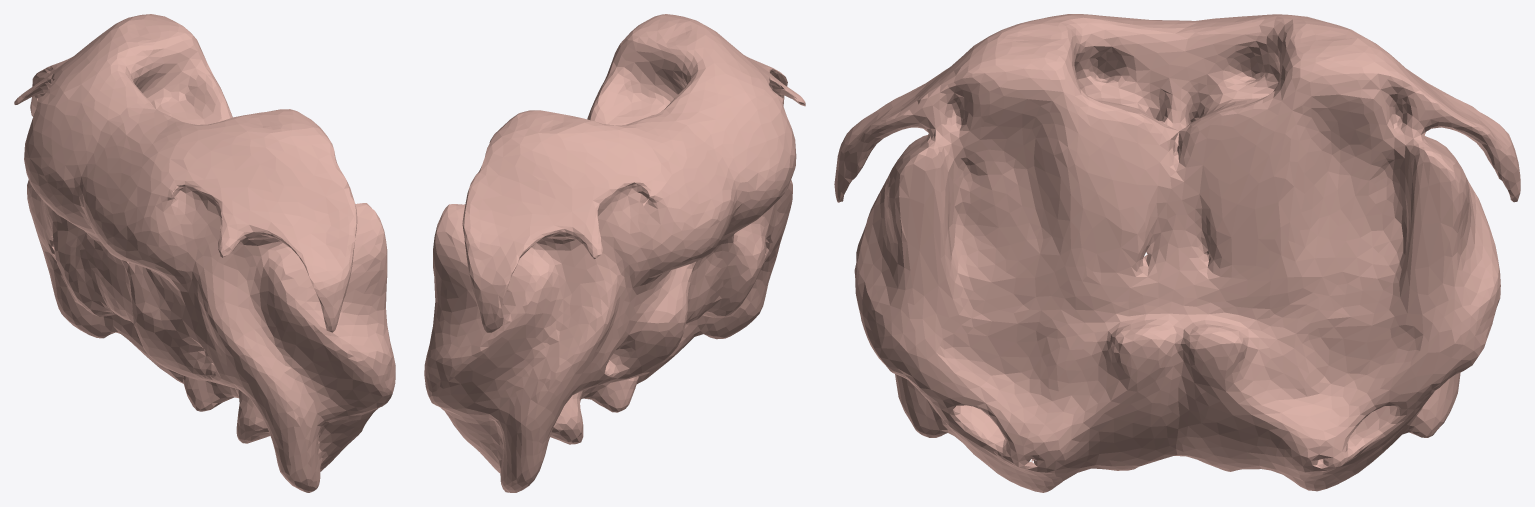
3 renders of one model, left to right at view 1: azimuth 30°, elevation 25°; view 2: azimuth 150°, elevation 25°; view 3: azimuth 270°, elevation 25°, orthographic. The views are drawn at different scales.
Parts seen in each view (by area): view 1: 771.obj; view 2: 771.obj; view 3: 771.obj.
Boxes of the visible parts, x1,y1,x2,y2 form: 771.obj: (14,14,395,492); 771.obj: (424,14,805,492); 771.obj: (834,14,1520,492).
Size of the model in its own units: 2485 by 3703 by 5372.
